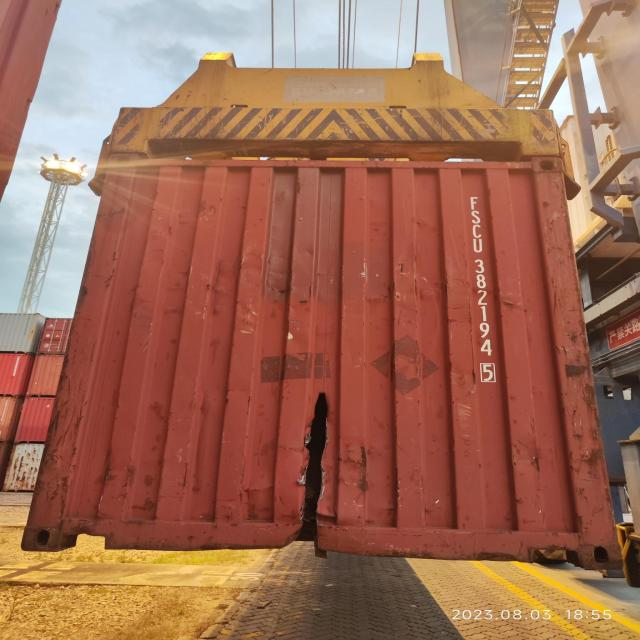hole: (292, 388, 336, 553)
